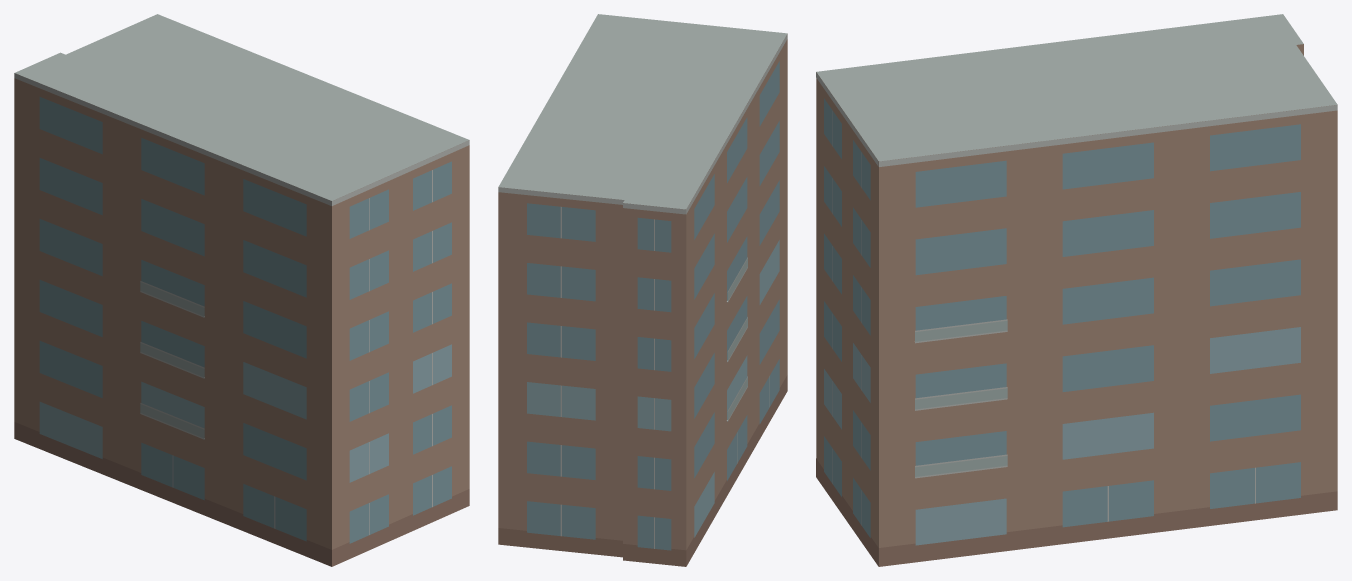
Rendered from survey-upis-32562186.glb.
The picture shows the model from 3 angles, left to right: view 1: azimuth 30°, elevation 25°; view 2: azimuth 150°, elevation 25°; view 3: azimuth 270°, elevation 25°; orthographic projection. The views are drawn at different scales.
Visible parts, largest first — view 1: survey-upis-32562186.tmp; view 2: survey-upis-32562186.tmp; view 3: survey-upis-32562186.tmp.
Part boxes in pixels (box(x1,y1,x2,y2)): survey-upis-32562186.tmp: box(14, 14, 469, 566); survey-upis-32562186.tmp: box(498, 14, 787, 566); survey-upis-32562186.tmp: box(816, 14, 1337, 566).
Bounding box in the file's own units: 13.51 × 17.3 × 20.18.
